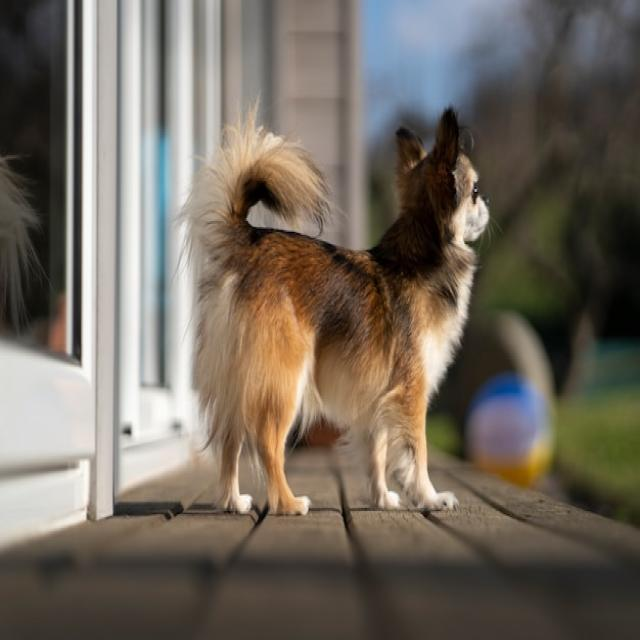Dog: (174, 100, 488, 512)
